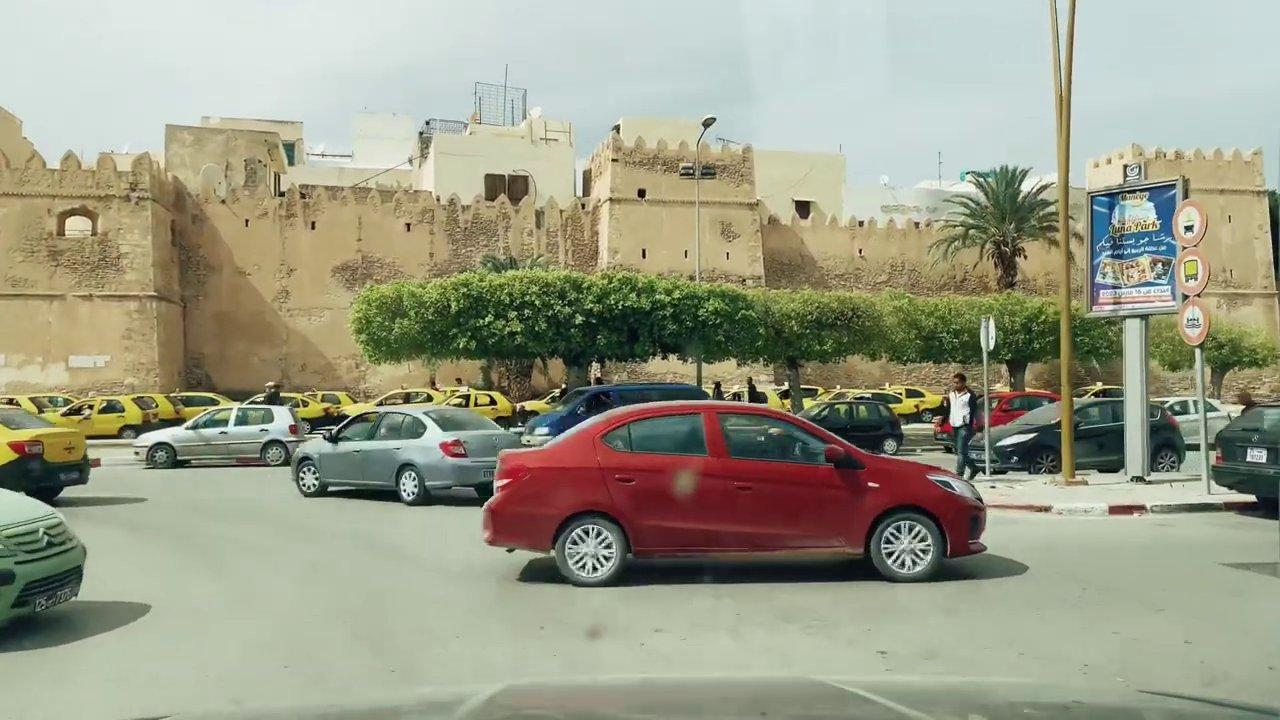no vehicles carrying dangerous goods: (1170, 248, 1213, 296)
no vehicles carrying explosives: (1171, 199, 1208, 248)
no vehicles carrying water pollutants: (1173, 299, 1211, 347)
